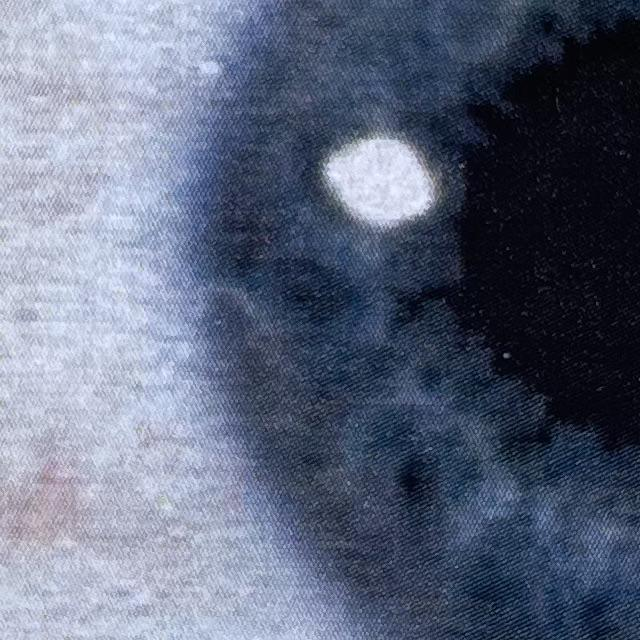eye: (0, 0, 640, 640)
iris: (204, 0, 640, 640)
